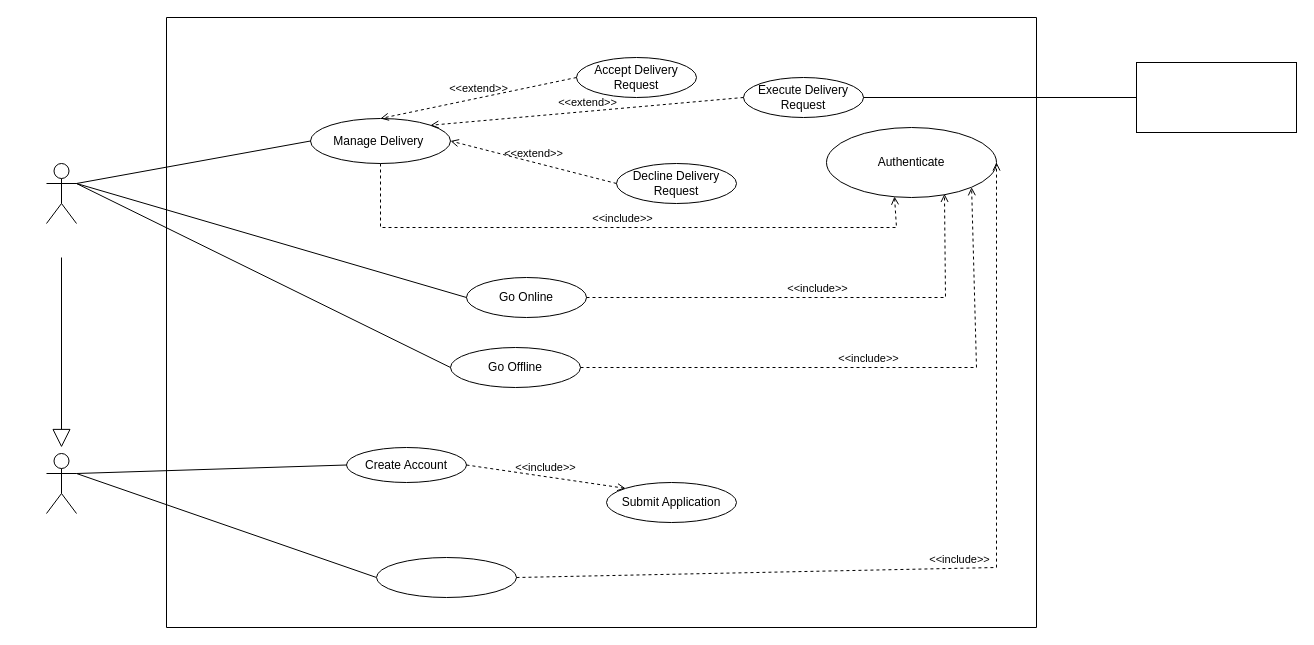
Image size: 1314x645. Some labels were removed from this diagram. Each missing label, with the centre of its shape:
"<<actor>> GeoLocation API" belongs at pixel 1216 97.
"Delivery Person" belongs at pixel 61 193.
"Recieve Notification" belongs at pixel 446 577.
"Service Provider" belongs at pixel 61 483.
